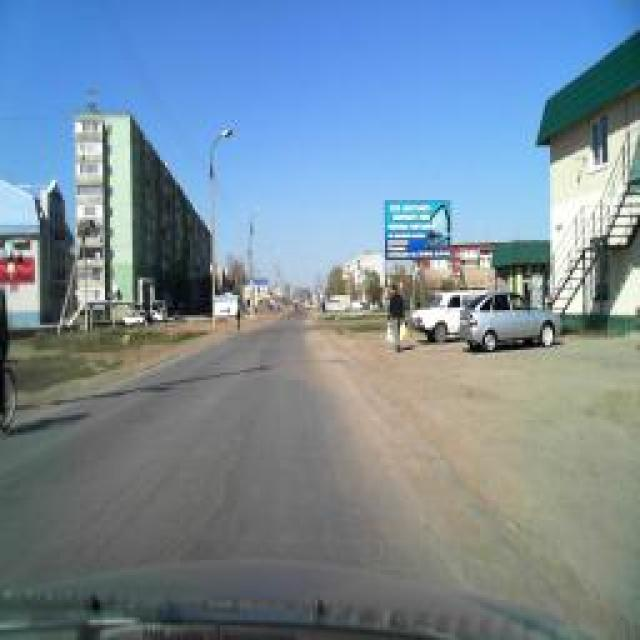sign: (340, 261, 350, 281)
